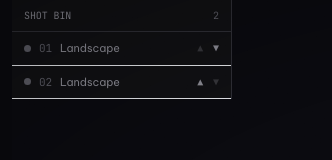
Test: ShotBin › reorder errors › a network failure does not throw and surfaces a message instead of failing silently
Click the 1st button "▼". click: (216, 48)
box: [209,43,223,53]
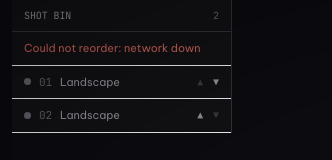
Result: the message shows "network down" at [24,41,201,55]
